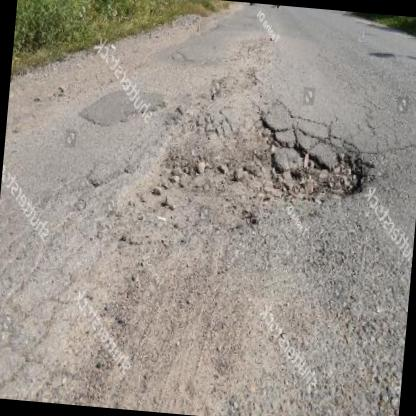pothole: (255, 110, 378, 209)
